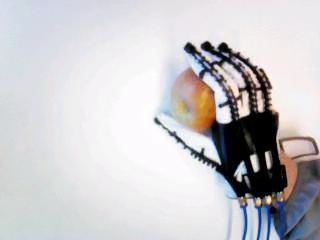apple: (168, 64, 222, 133)
hand: (161, 40, 285, 205)
